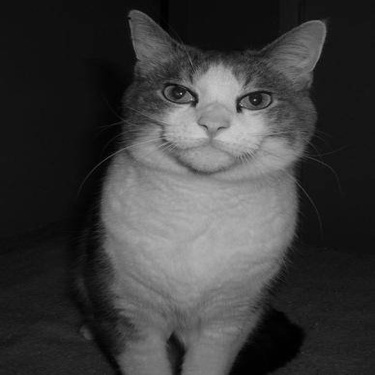cat: (46, 13, 328, 372)
